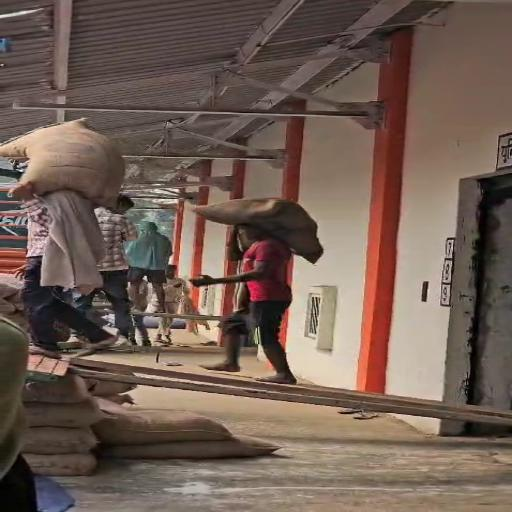bag: (0, 116, 140, 210), (176, 192, 336, 266)
